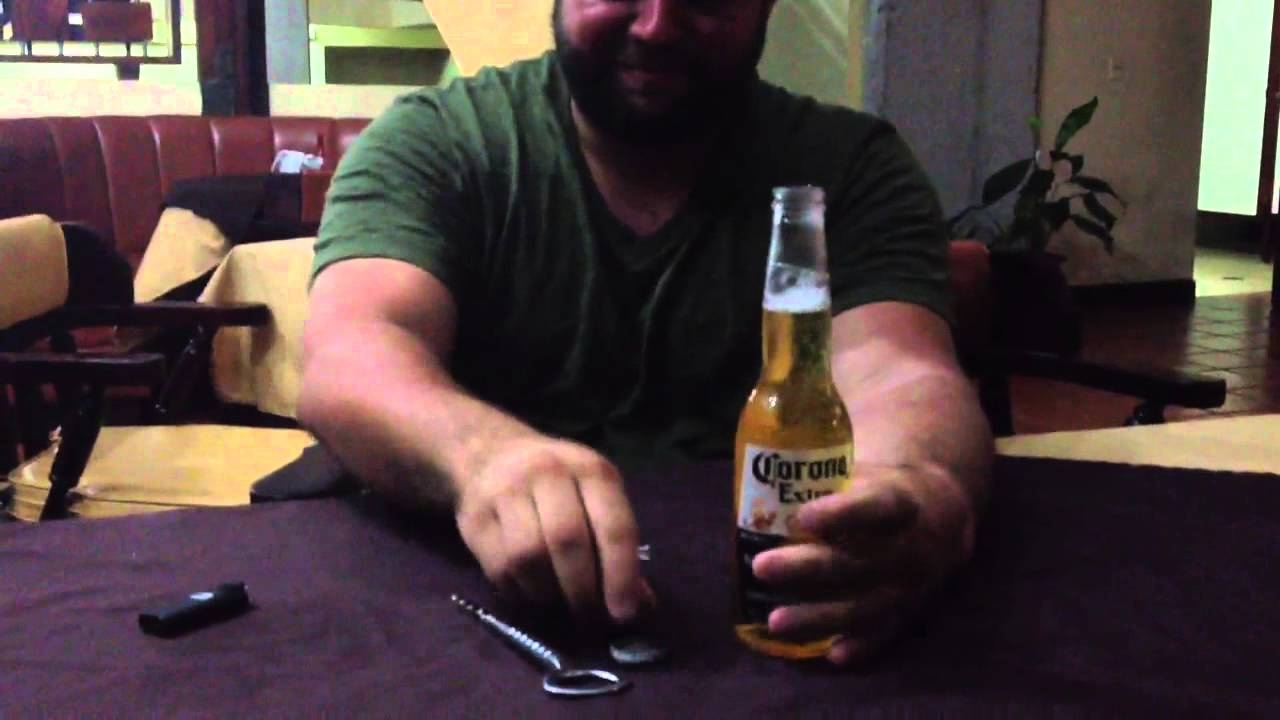beerBottle: (728, 177, 858, 657)
